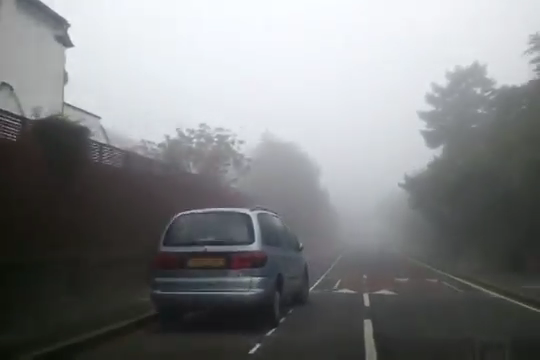car: (146, 202, 311, 327)
